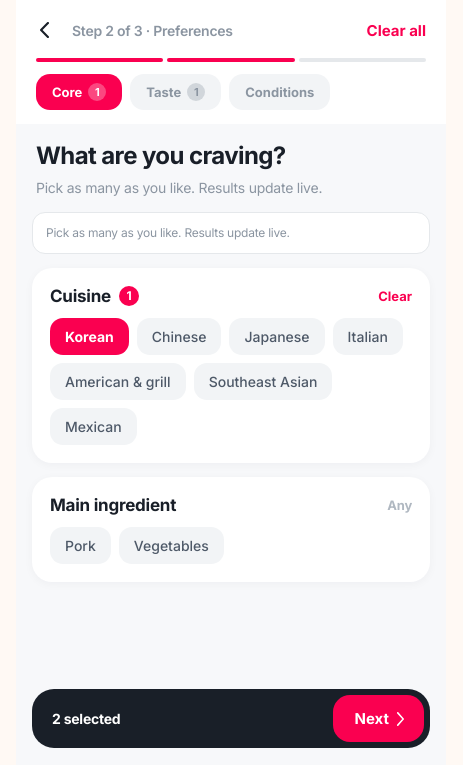
Test: ChatPage structured recommendation contract › forces a catalog refresh instead of treating stale committed criteria as an idempotent success
Expected: the heading "What are you craving?" is shown, [36,141,286,170]
Step 1. Click the button "Next" → [378, 718], box [332,695,424,742]
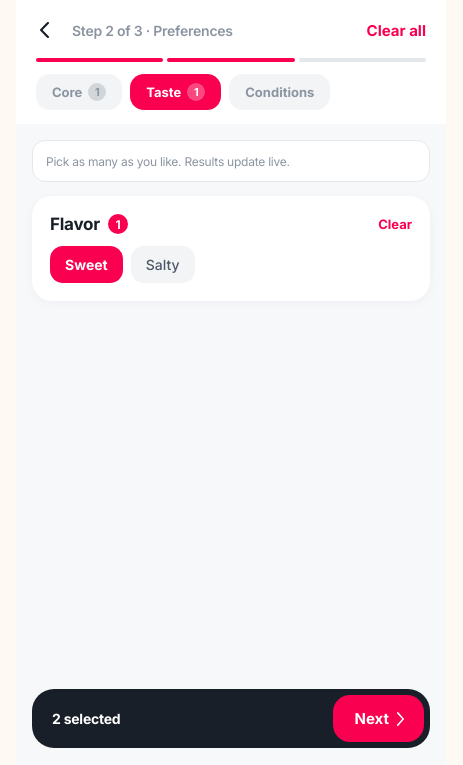
Step 2. Click the button "Next" → [378, 718], box [332,695,424,742]
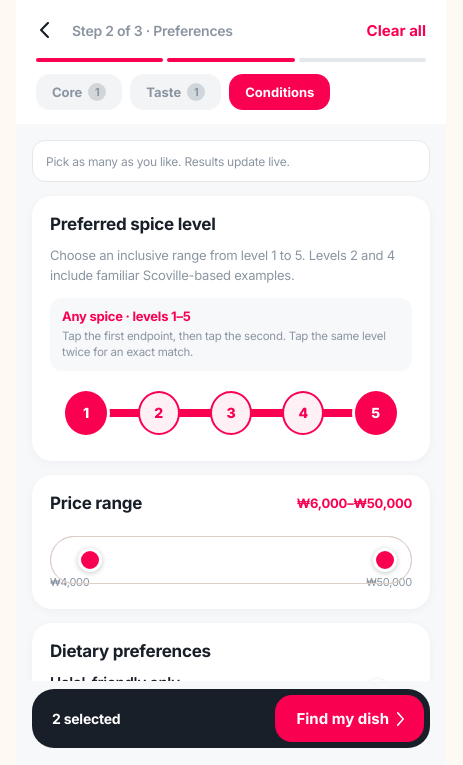
Step 3. Click the button "Find my dish" → [349, 718], box [274,695,424,742]
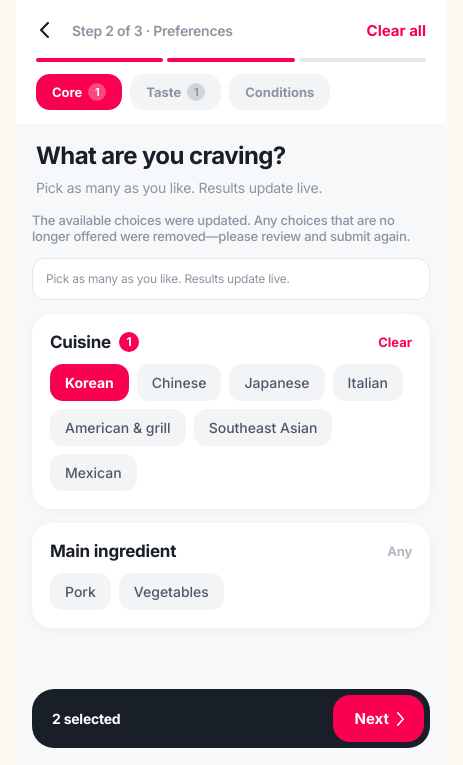
Expected: the text "available choices were updated" is shown, [32,212,410,244]
